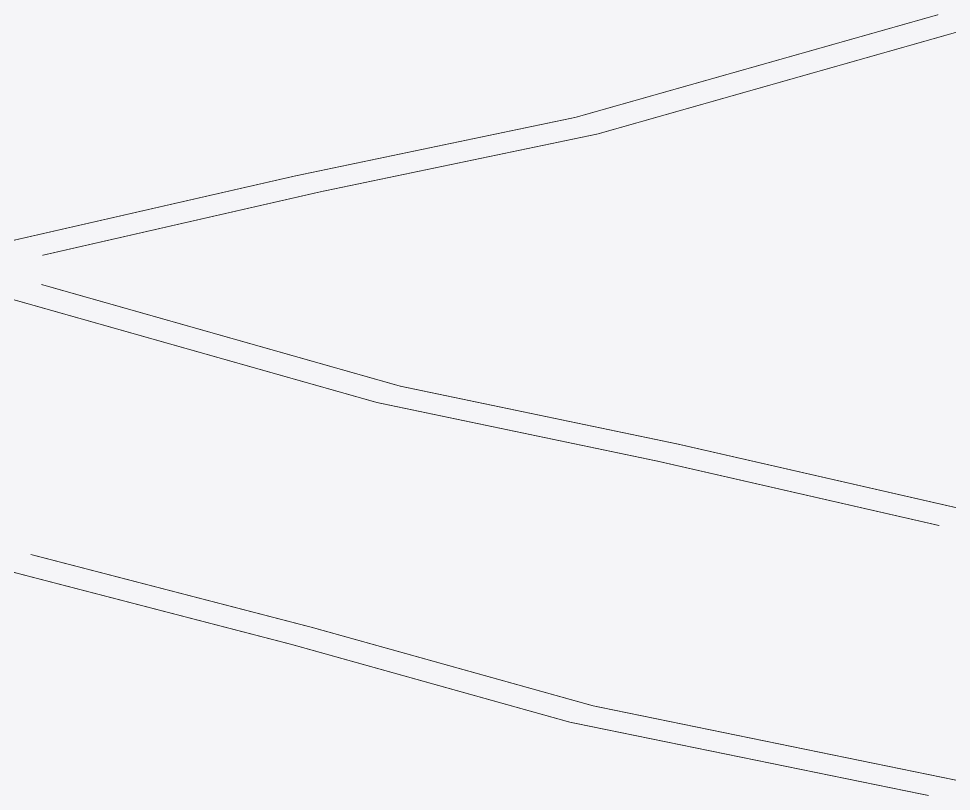
The model's file is elektrik direği kablosu.fbx.
3 views of the same model, one above another, from view 1: azimuth 30°, elevation 25°; view 2: azimuth 150°, elevation 25°; view 3: azimuth 330°, elevation 25° (orthographic).
Visible parts, largest first — view 1: Icosphere.001; view 2: Icosphere.001; view 3: Icosphere.001.
Part boxes in pixels (box(x1,y1,x2,y2)): Icosphere.001: box(14, 14, 955, 255); Icosphere.001: box(14, 284, 955, 525); Icosphere.001: box(14, 554, 955, 795).
Size of the model in its own units: 895 by 13.81 by 37.98.
Materials: 1 (1 with a texture image).
